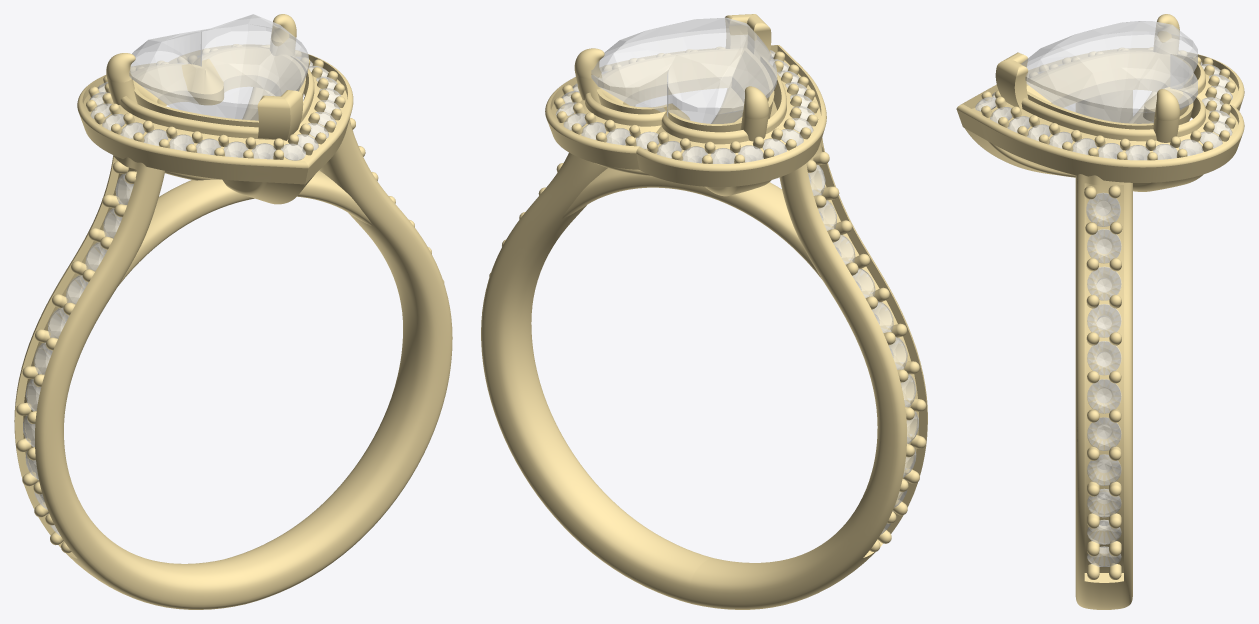
3 renders of one model, left to right at view 1: azimuth 30°, elevation 25°; view 2: azimuth 150°, elevation 25°; view 3: azimuth 270°, elevation 25°, orthographic. The views are drawn at different scales.
Visible parts, largest first — view 1: NNObj_57, NNObj_56, NNObj_26, NNObj_55, NNObj_49, NNObj_54, NNObj_60, NNObj_51, NNObj_52; view 2: NNObj_57, NNObj_56, NNObj_26, NNObj_55, NNObj_49, NNObj_54, NNObj_60, NNObj_52, NNObj_51; view 3: NNObj_57, NNObj_56, NNObj_26, NNObj_55, NNObj_54, NNObj_60, NNObj_36, NNObj_37, NNObj_28, NNObj_27, NNObj_29, NNObj_35 (+9 smaller).
Part boxes in pixels (left/top/right/bottom): NNObj_57: left=14, top=97, right=452, bottom=609; NNObj_56: left=77, top=44, right=353, bottom=184; NNObj_26: left=129, top=14, right=308, bottom=120; NNObj_55: left=133, top=47, right=305, bottom=127; NNObj_49: left=118, top=170, right=372, bottom=285; NNObj_54: left=257, top=90, right=303, bottom=140; NNObj_60: left=222, top=175, right=314, bottom=204; NNObj_51: left=106, top=53, right=135, bottom=82; NNObj_52: left=271, top=14, right=296, bottom=42; NNObj_57: left=481, top=106, right=927, bottom=609; NNObj_56: left=545, top=45, right=826, bottom=186; NNObj_26: left=591, top=17, right=777, bottom=123; NNObj_55: left=597, top=48, right=774, bottom=132; NNObj_49: left=562, top=168, right=821, bottom=278; NNObj_54: left=725, top=14, right=771, bottom=60; NNObj_60: left=711, top=88, right=777, bottom=123; NNObj_52: left=574, top=48, right=604, bottom=78; NNObj_51: left=742, top=86, right=768, bottom=119; NNObj_57: left=1075, top=90, right=1132, bottom=609; NNObj_56: left=956, top=48, right=1244, bottom=182; NNObj_26: left=1021, top=21, right=1197, bottom=123; NNObj_55: left=1026, top=51, right=1193, bottom=129; NNObj_54: left=995, top=52, right=1028, bottom=109; NNObj_60: left=965, top=128, right=1075, bottom=177; NNObj_36: left=1087, top=379, right=1121, bottom=413; NNObj_37: left=1087, top=341, right=1121, bottom=375; NNObj_28: left=1087, top=229, right=1121, bottom=263; NNObj_27: left=1086, top=192, right=1120, bottom=226; NNObj_29: left=1087, top=266, right=1121, bottom=300; NNObj_35: left=1087, top=417, right=1121, bottom=450.
Bounding box in the file's own units: 0.0209 × 0.026 × 0.0125.
